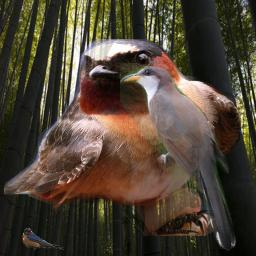Cuckoo: (120, 63, 240, 252)
Swallow: (4, 39, 241, 236), (22, 228, 66, 250)
